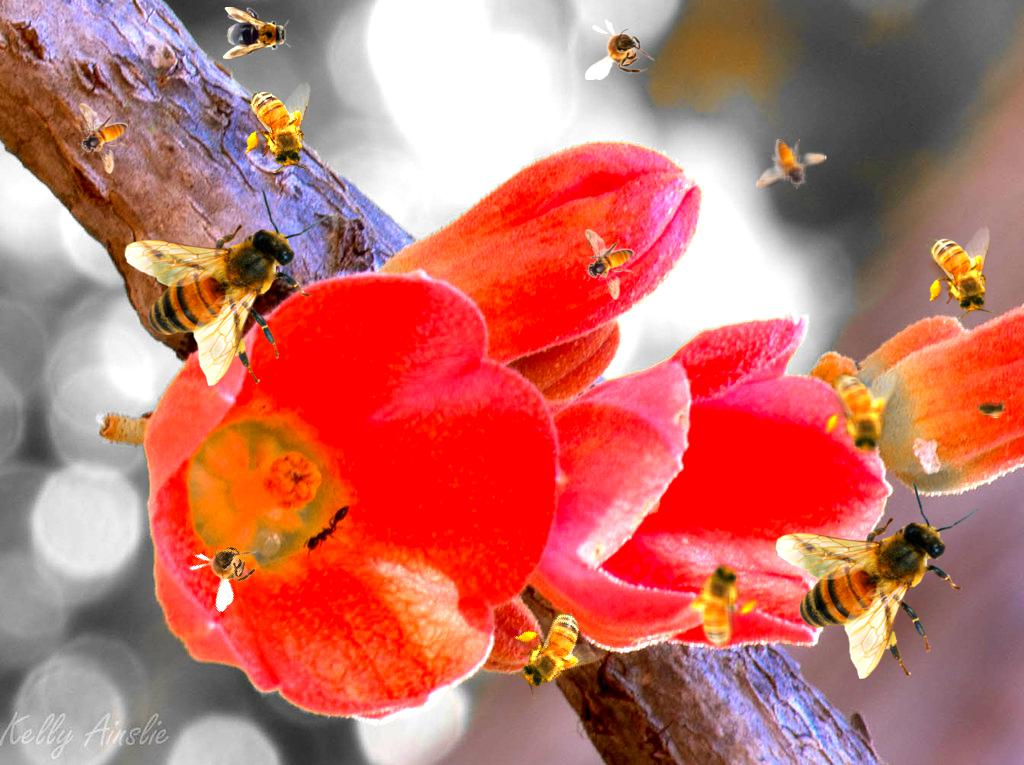Bee: (775, 480, 979, 679), (124, 187, 328, 386), (663, 548, 773, 665), (496, 598, 612, 703), (817, 358, 903, 465), (179, 520, 272, 614), (240, 77, 316, 176), (926, 226, 994, 319), (585, 19, 655, 80), (584, 229, 634, 300), (756, 139, 827, 189), (78, 103, 128, 174), (223, 7, 291, 59), (971, 397, 1011, 419)
